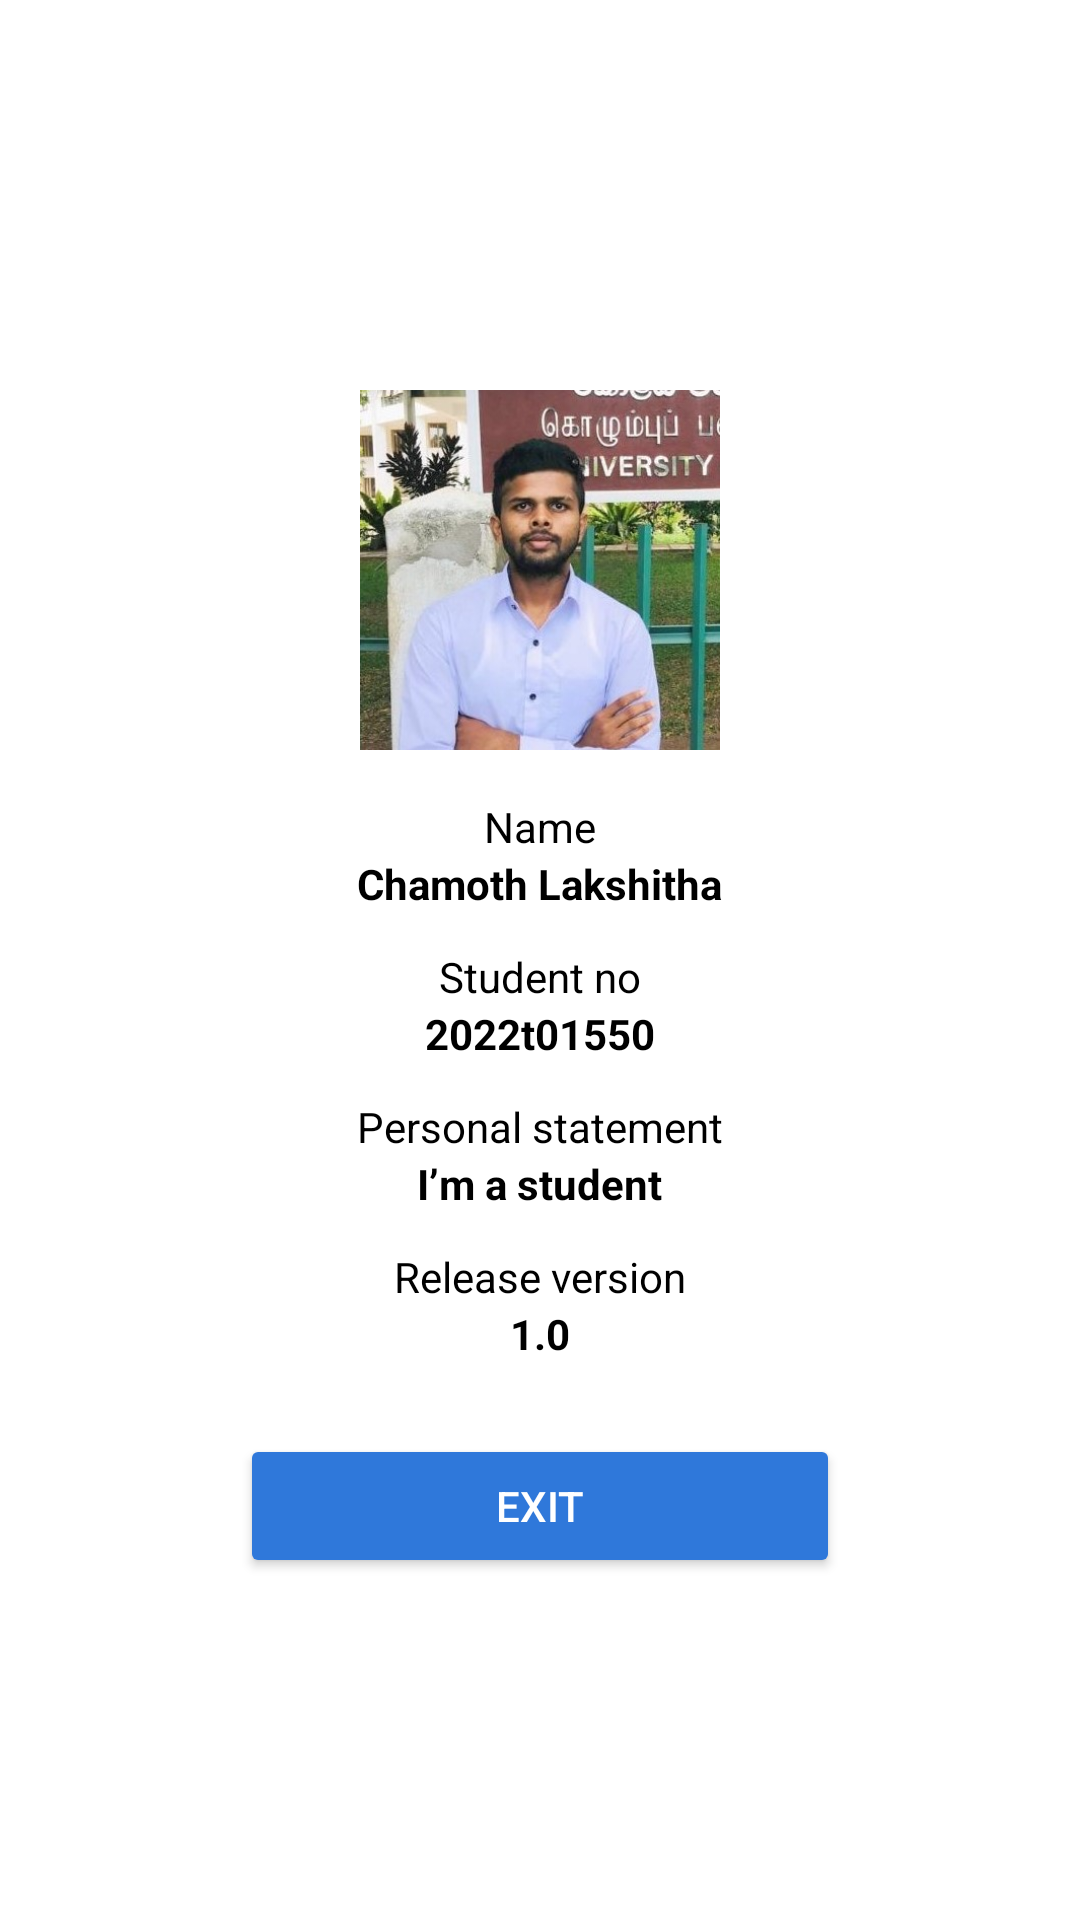

Where to tap for icons on this 1080w x 1920h app screen, as (x=x, y=y):
Profile picture: (x=540, y=570)
